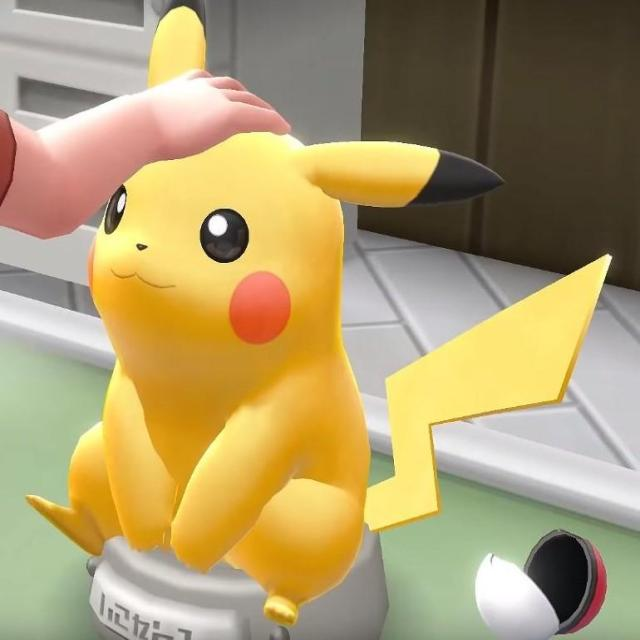pikachu: (24, 0, 611, 626)
